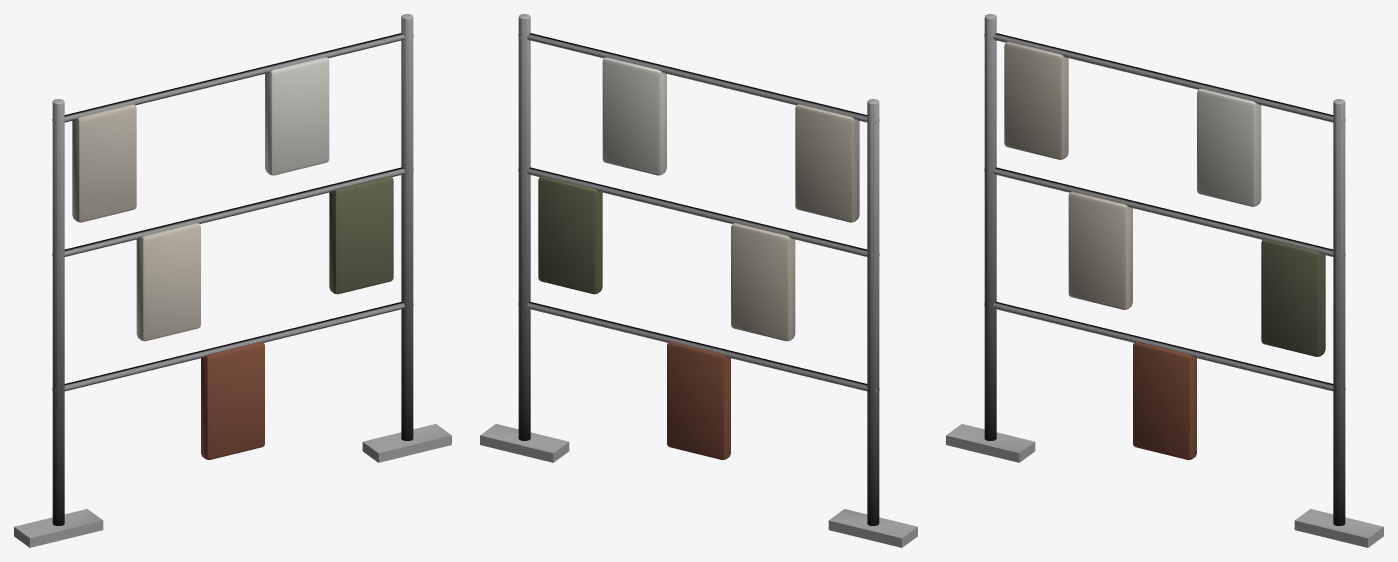
Rendered from drying_rack_clothes.glb.
3 views of the same model, side by side, from view 1: azimuth 30°, elevation 25°; view 2: azimuth 150°, elevation 25°; view 3: azimuth 330°, elevation 25° (orthographic).
Visible parts, largest first — view 1: drying_rack_clothes; view 2: drying_rack_clothes; view 3: drying_rack_clothes.
Part boxes in pixels (x1=…): drying_rack_clothes: x1=14, y1=14, x2=451, y2=547; drying_rack_clothes: x1=480, y1=14, x2=917, y2=547; drying_rack_clothes: x1=946, y1=14, x2=1383, y2=547.
Bounding box in the file's own units: 0.92 × 0.9 × 0.06.
